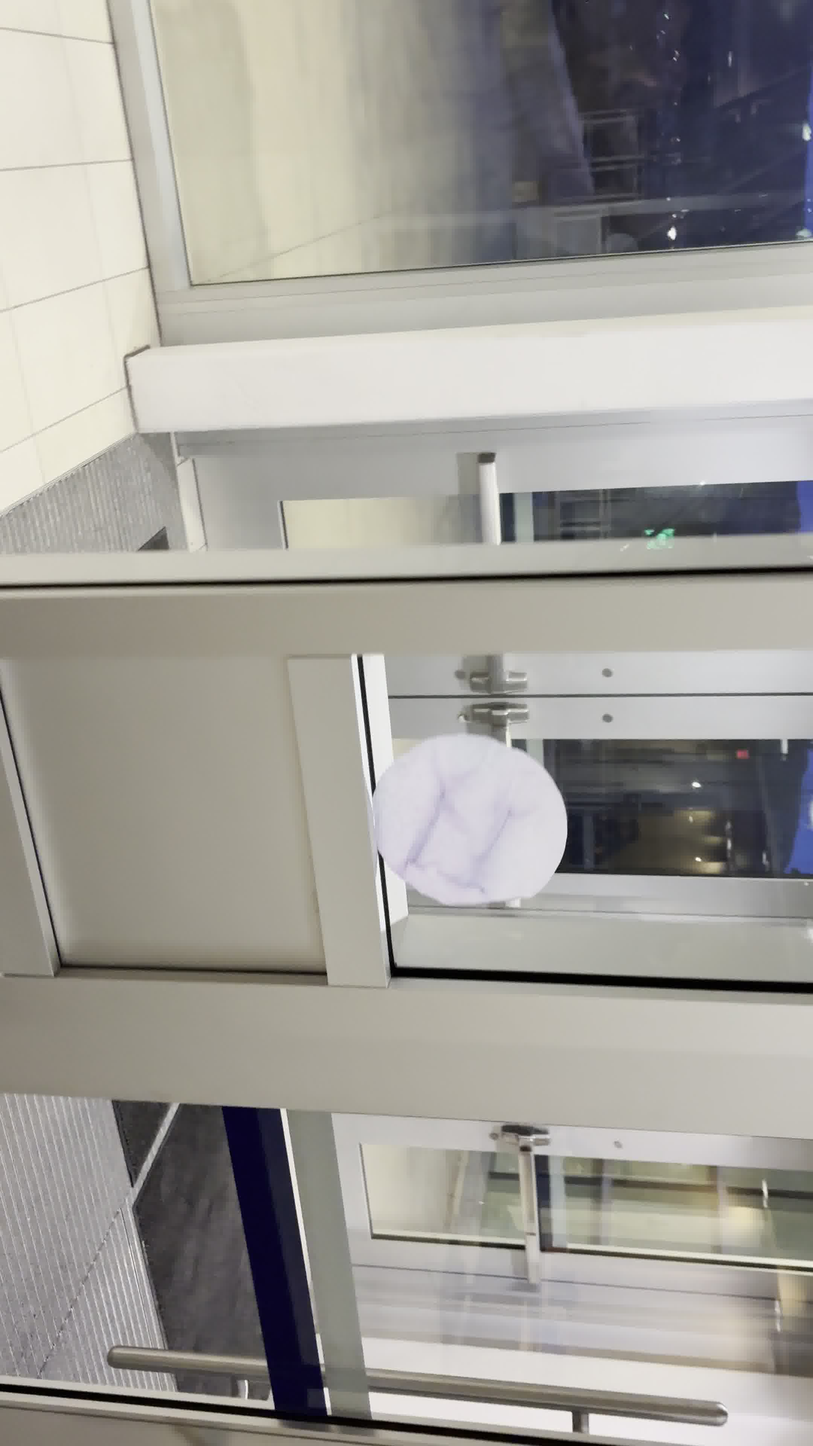Target: (362, 736, 568, 909)
